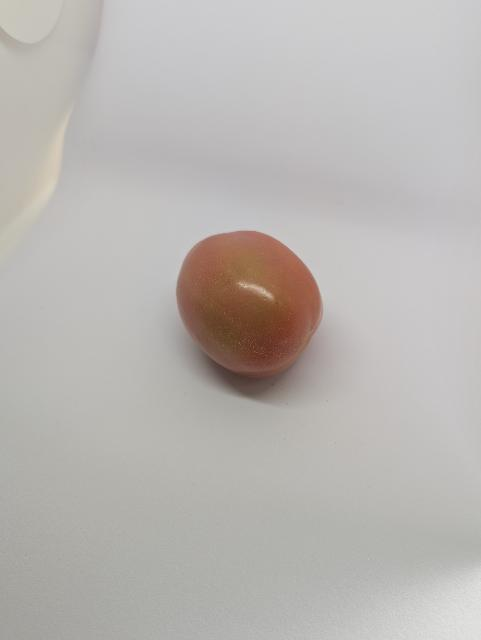turning: (173, 224, 329, 380)
